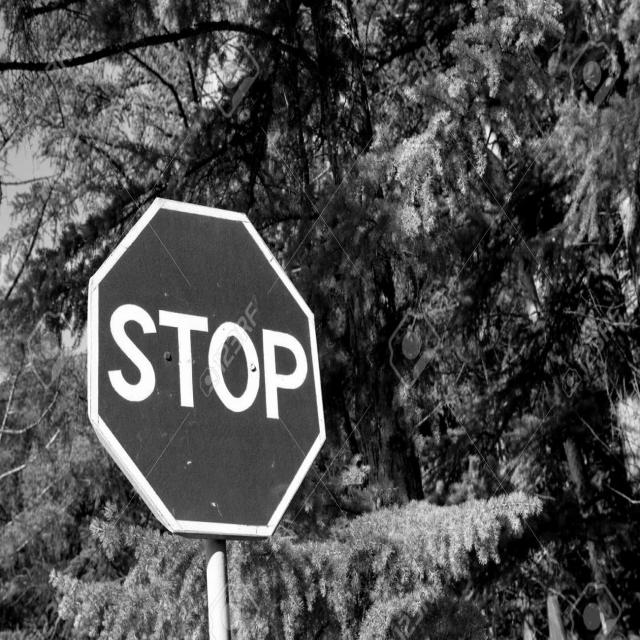Stop-sign: (78, 138, 340, 567)
